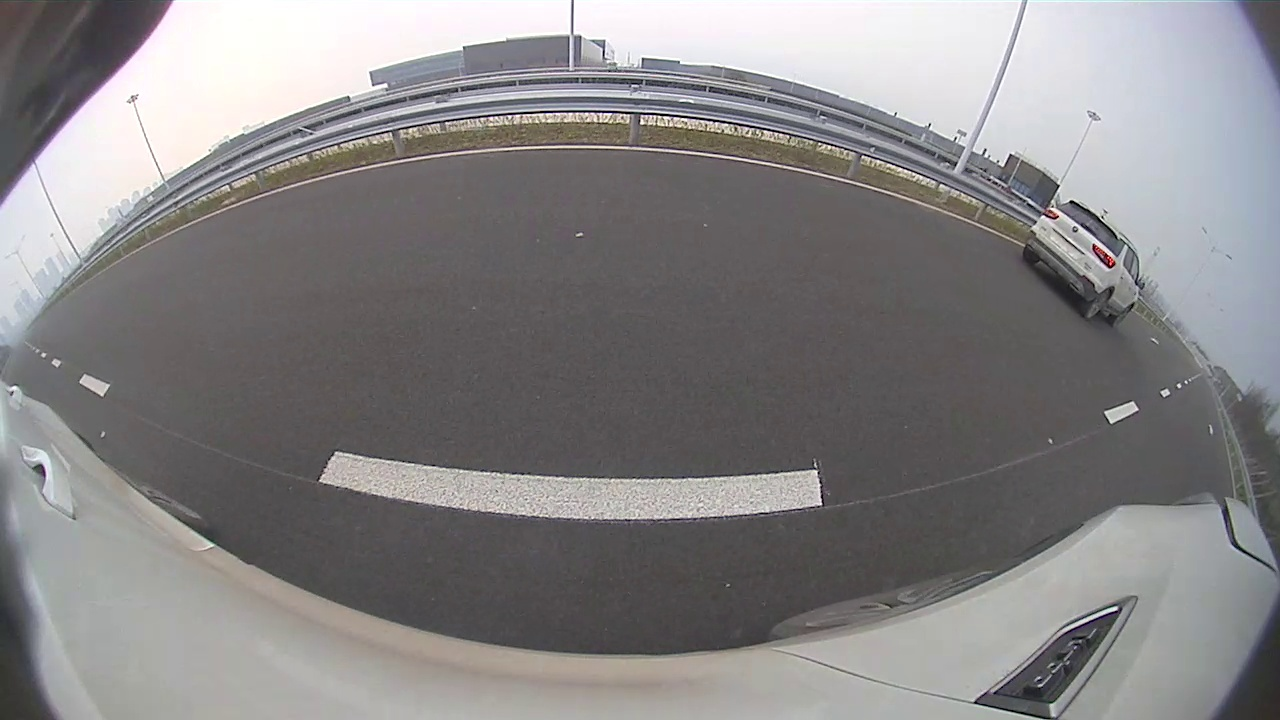car: (1022, 199, 1145, 328)
rear: (1084, 289, 1117, 323)
